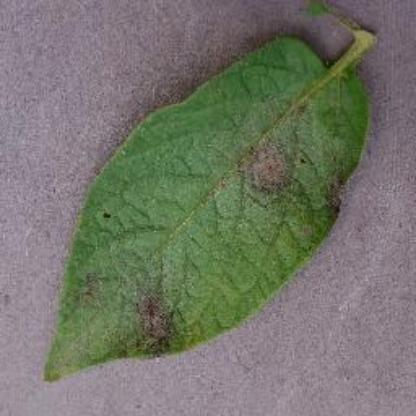Late-Blight: (35, 12, 377, 380)
